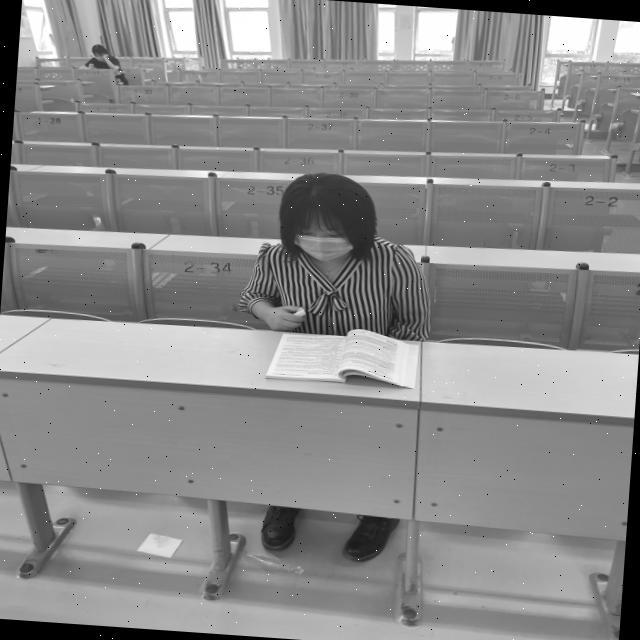study: (237, 169, 434, 386)
